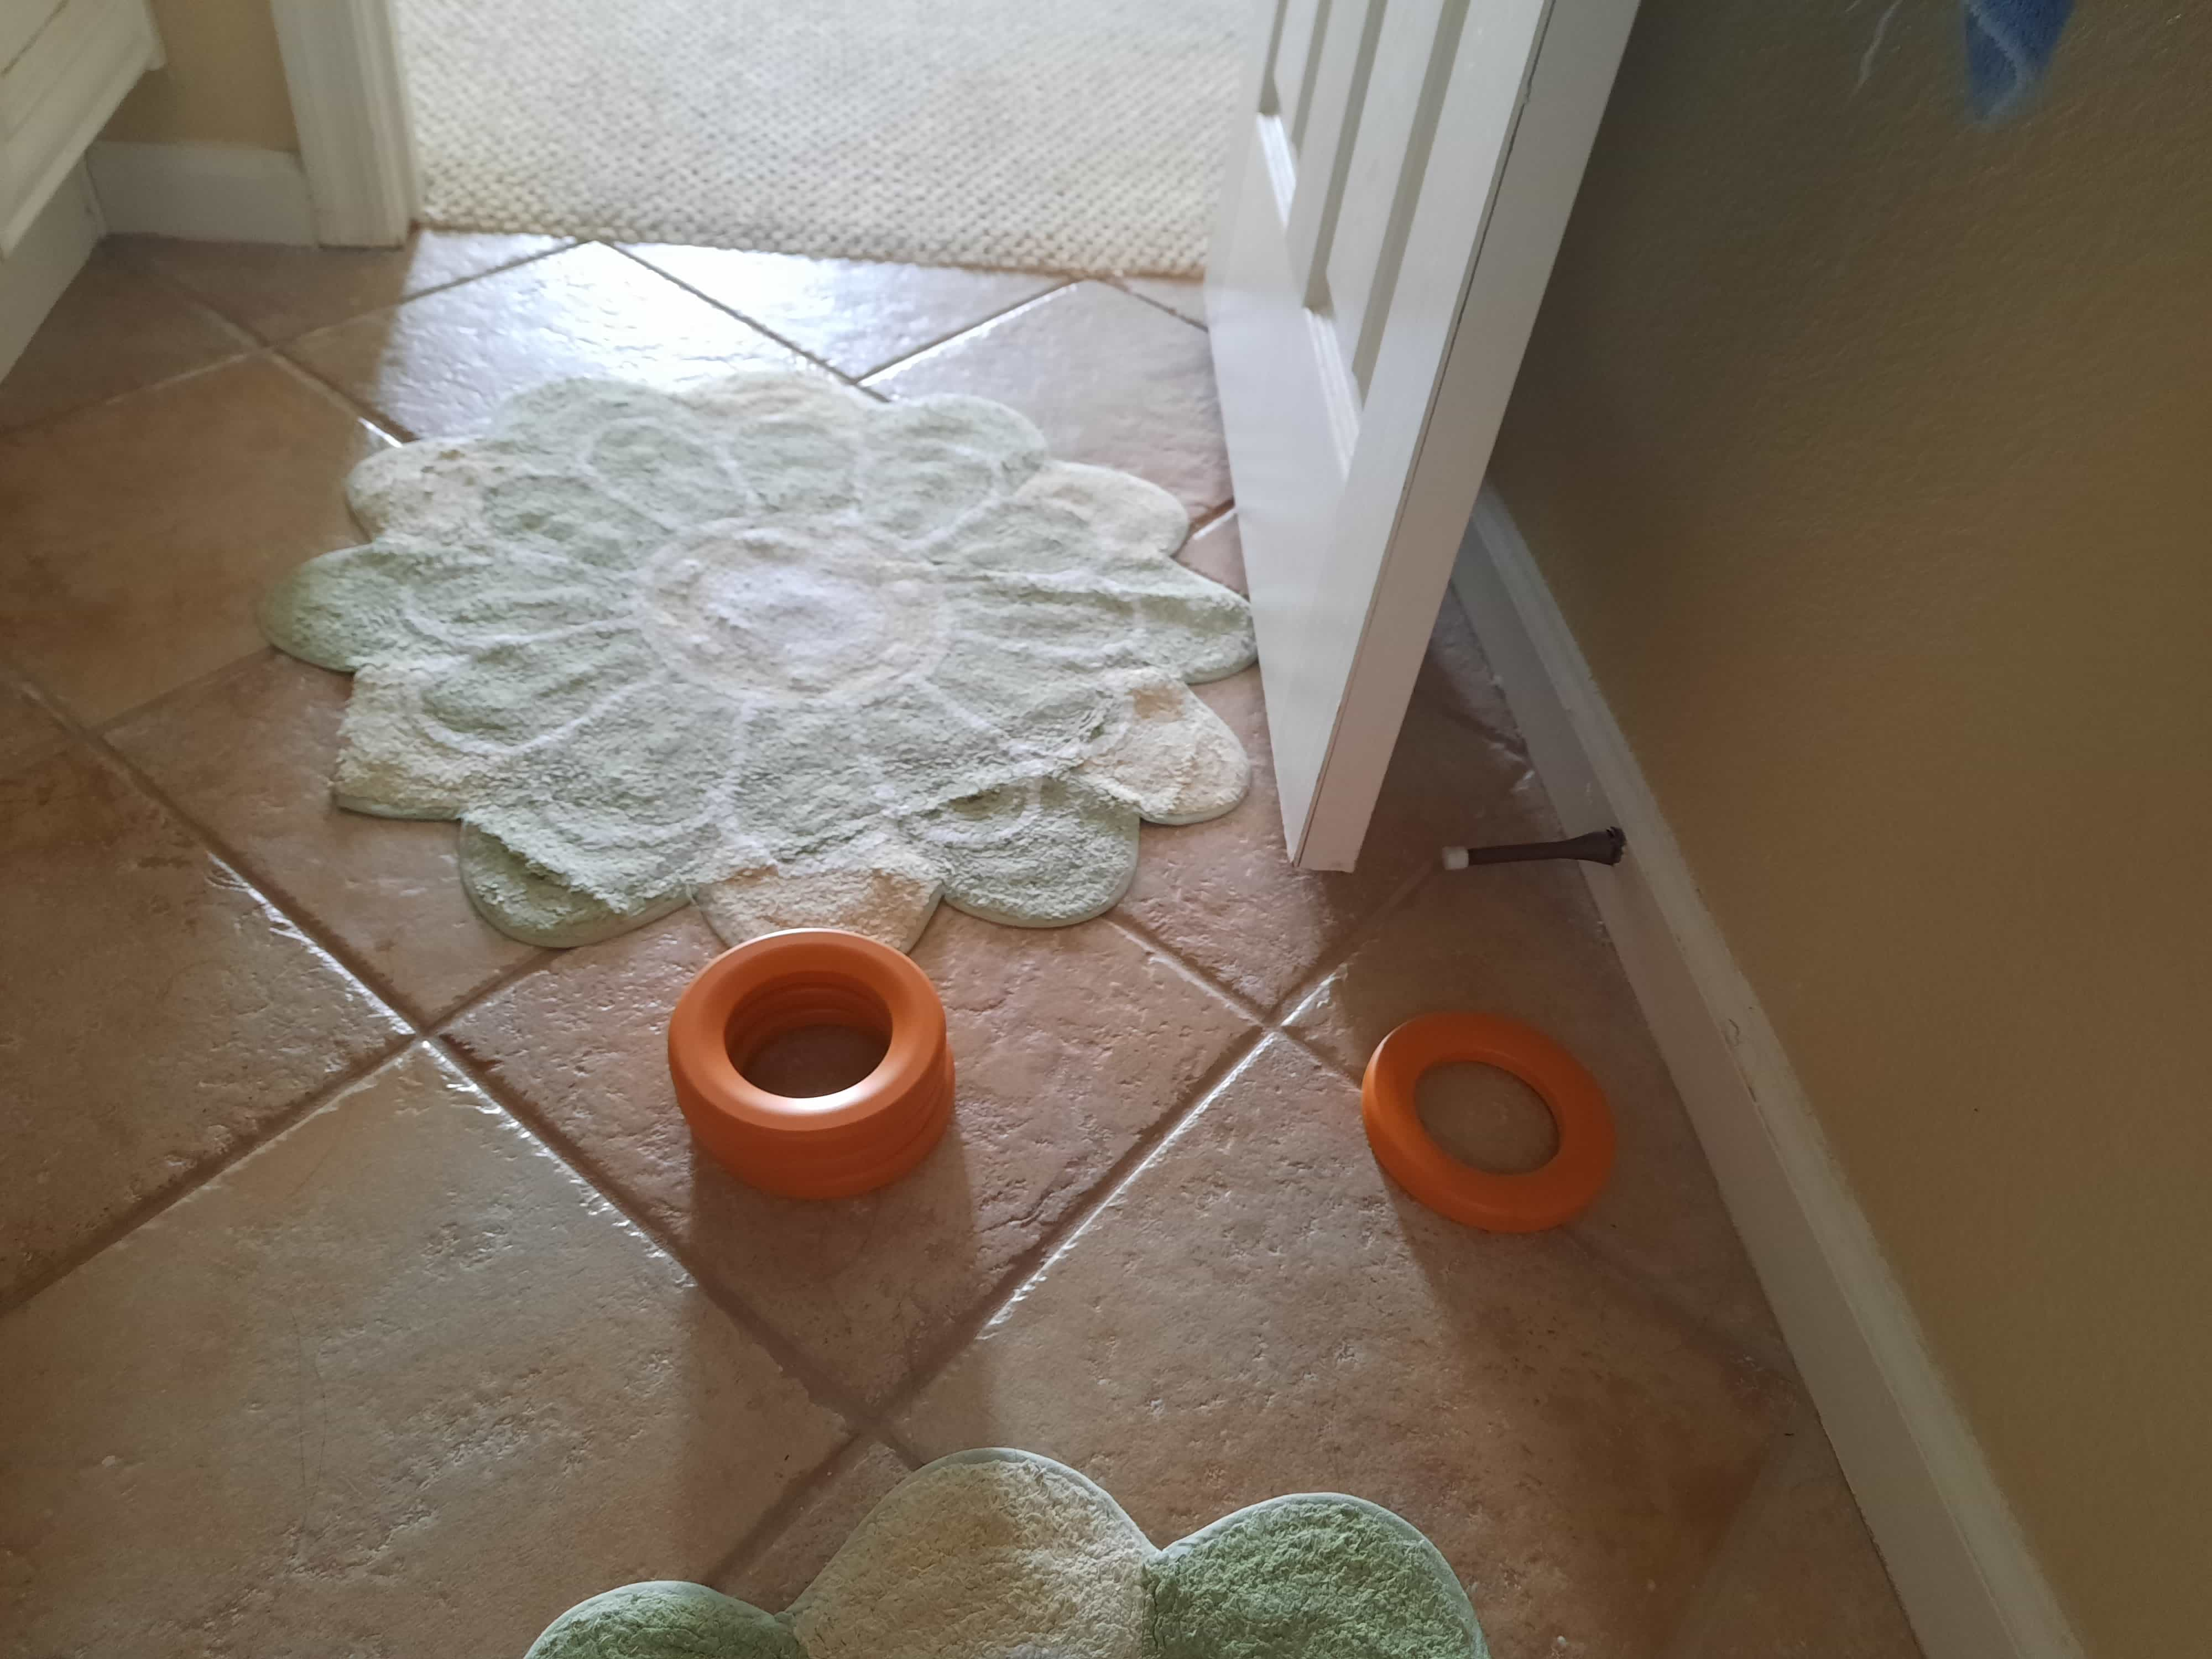FourStack: (667, 931, 960, 1209)
OneStack: (1366, 1014, 1613, 1232)
